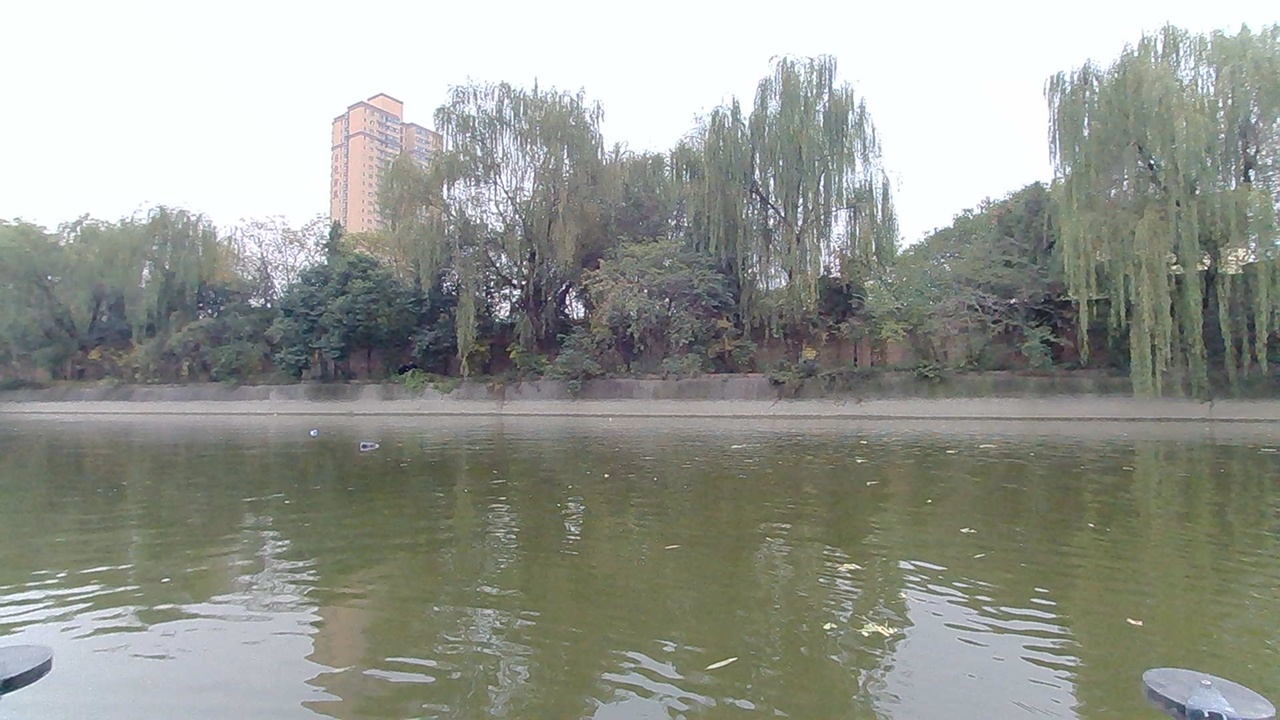bottle: (357, 429, 401, 457), (302, 422, 335, 446)
